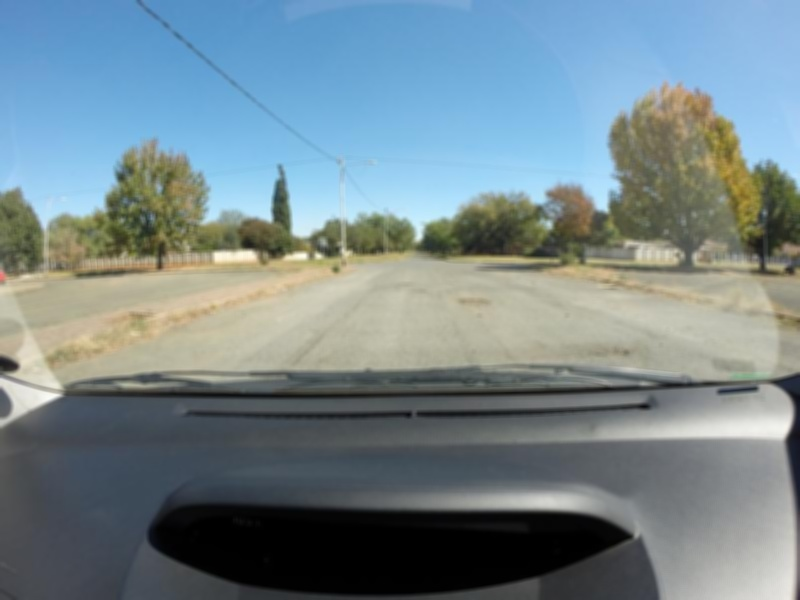pothole: (586, 344, 631, 357), (453, 296, 500, 306), (397, 282, 416, 288), (410, 288, 431, 292)
